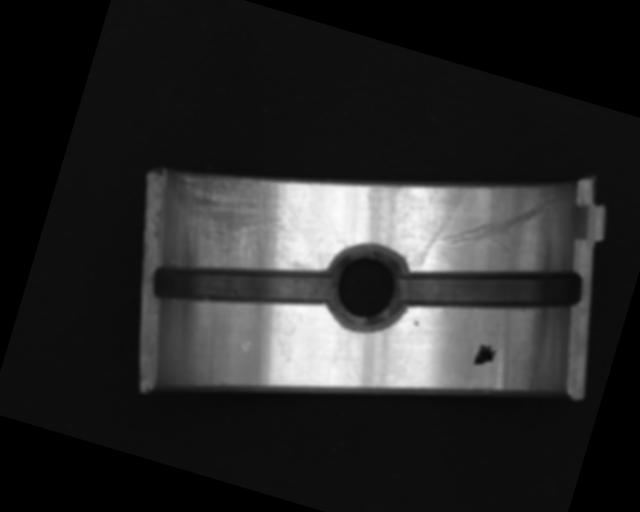blot: (472, 341, 498, 370)
bruise: (239, 337, 253, 353), (413, 320, 419, 327)
gap: (390, 226, 587, 352), (146, 226, 336, 344)
hole: (317, 234, 417, 339)
nick: (428, 161, 560, 277)
scratch: (154, 154, 333, 284)
